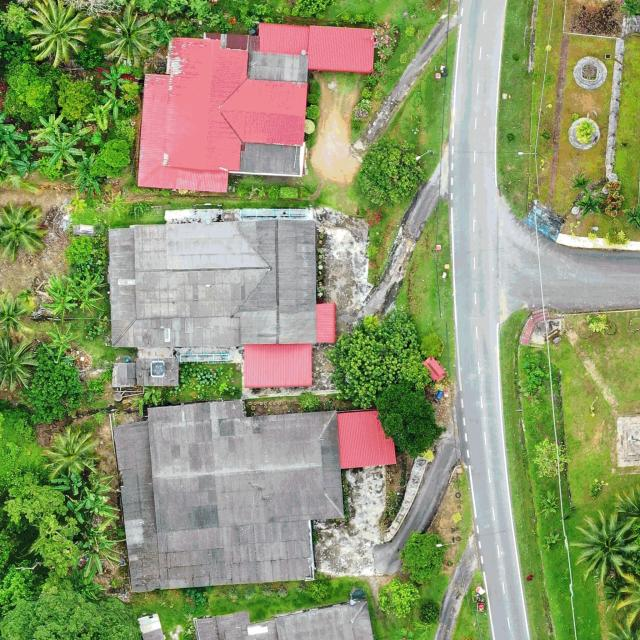Tree: (324, 309, 438, 410), (0, 562, 142, 640), (3, 473, 80, 576), (373, 381, 447, 460), (17, 344, 84, 424), (357, 135, 428, 210), (572, 509, 640, 587), (3, 41, 61, 122), (26, 0, 93, 67), (98, 2, 156, 66), (41, 423, 103, 482), (0, 201, 47, 263), (80, 519, 125, 578), (398, 529, 446, 583), (71, 473, 121, 519), (0, 331, 38, 391), (56, 76, 97, 126), (376, 576, 420, 619), (87, 137, 131, 176), (72, 268, 107, 316), (63, 150, 101, 194), (39, 134, 87, 167), (41, 276, 78, 317), (533, 437, 568, 480), (46, 323, 80, 360), (0, 112, 28, 154), (27, 115, 64, 144), (64, 235, 96, 267), (102, 89, 127, 120), (575, 193, 604, 219), (101, 66, 130, 91), (536, 490, 560, 520), (12, 153, 41, 175), (570, 172, 593, 194), (419, 600, 441, 623), (575, 120, 596, 144), (298, 391, 320, 412), (624, 202, 640, 230), (619, 0, 640, 19)
